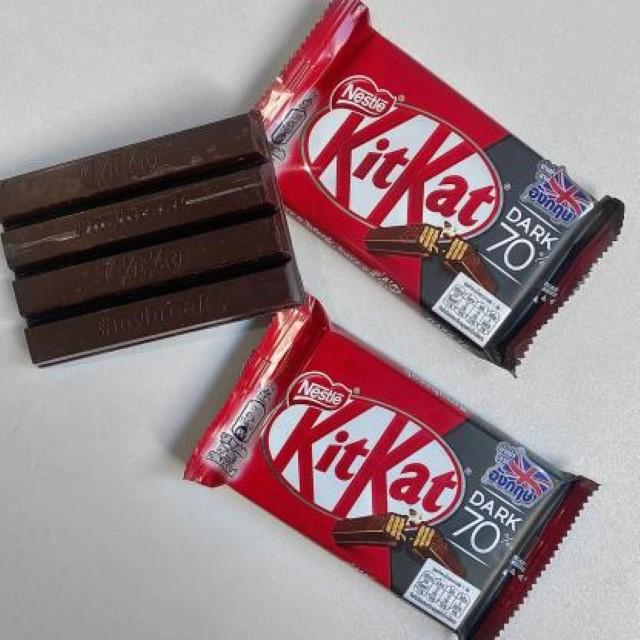kitkat_chocolate: (192, 328, 582, 602), (235, 50, 603, 298)
